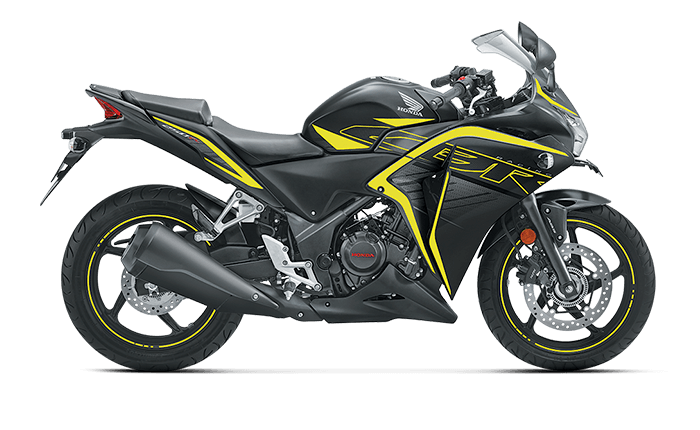motorcycle: (38, 21, 656, 373)
